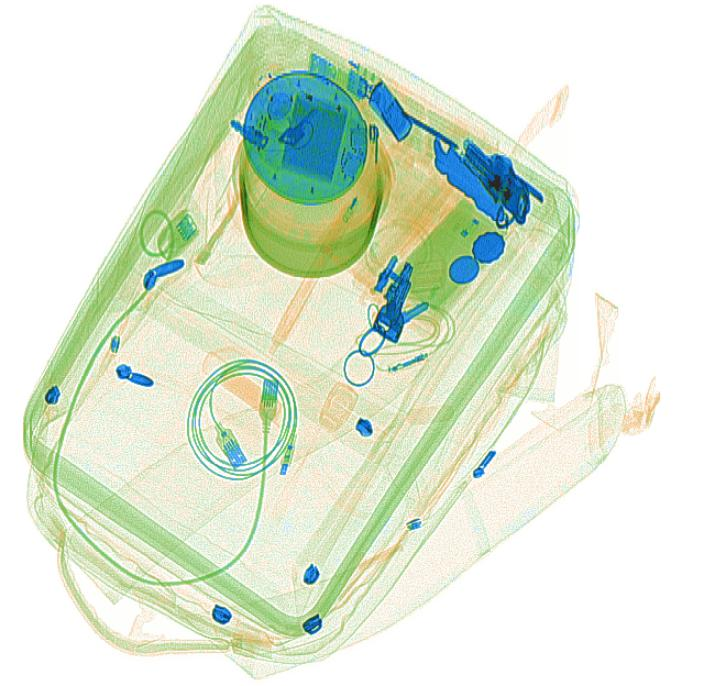USBFlashDisk: (367, 82, 416, 145), (305, 51, 366, 95)
